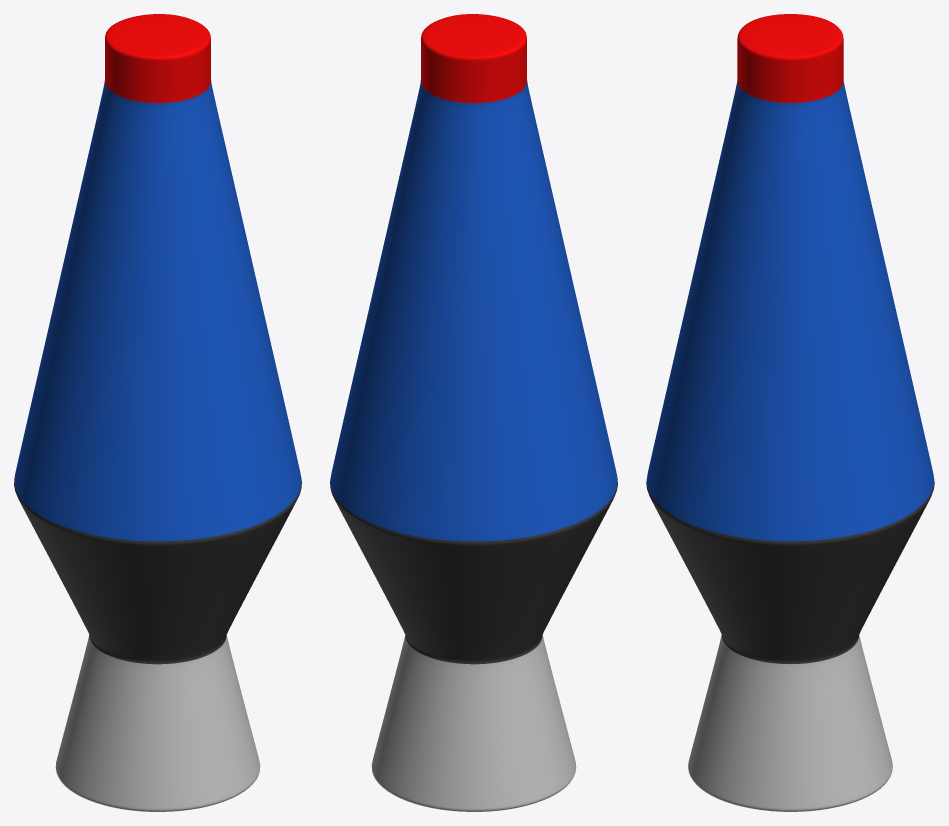
Rendered from LavaLamp.fbx.
3 renders of one model, left to right at view 1: azimuth 30°, elevation 25°; view 2: azimuth 150°, elevation 25°; view 3: azimuth 270°, elevation 25°, orthographic.
Visible parts, largest first — view 1: LavaLamp; view 2: LavaLamp; view 3: LavaLamp.
Part boxes in pixels (left/top/right/bottom): LavaLamp: left=14, top=14, right=301, bottom=811; LavaLamp: left=330, top=14, right=617, bottom=811; LavaLamp: left=646, top=14, right=934, bottom=811.
Size of the model in its own units: 122 by 343 by 122.
